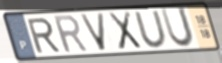R: (51, 13, 90, 55), (25, 17, 62, 55)
U: (159, 6, 196, 50), (132, 9, 170, 49)
V: (78, 12, 108, 52)
X: (106, 10, 144, 52)
